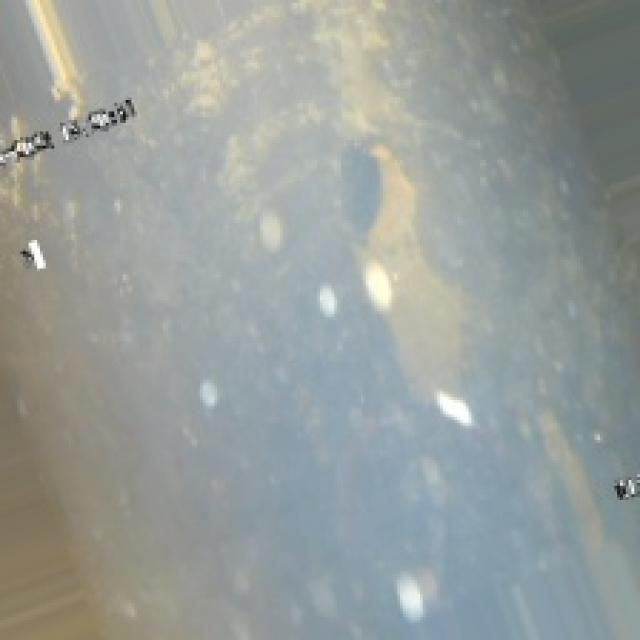pipe_surface_damage: (320, 131, 463, 386)
